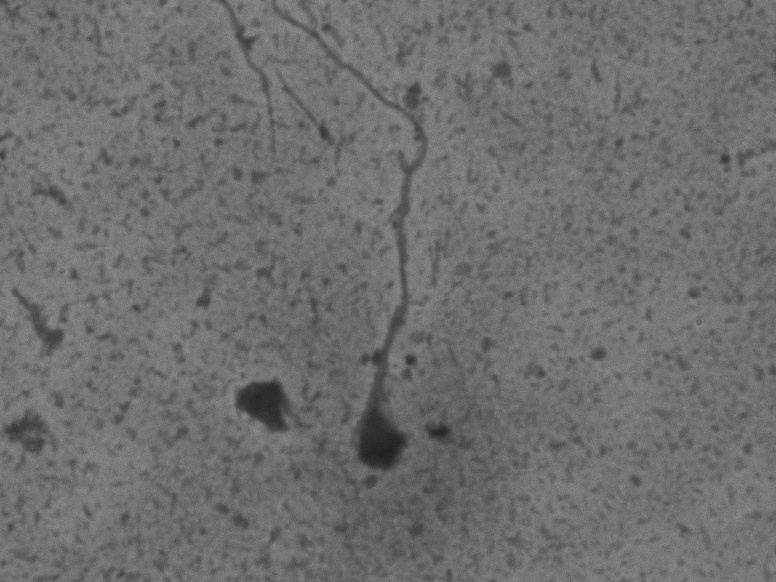Abnormal: (271, 7, 440, 482)
